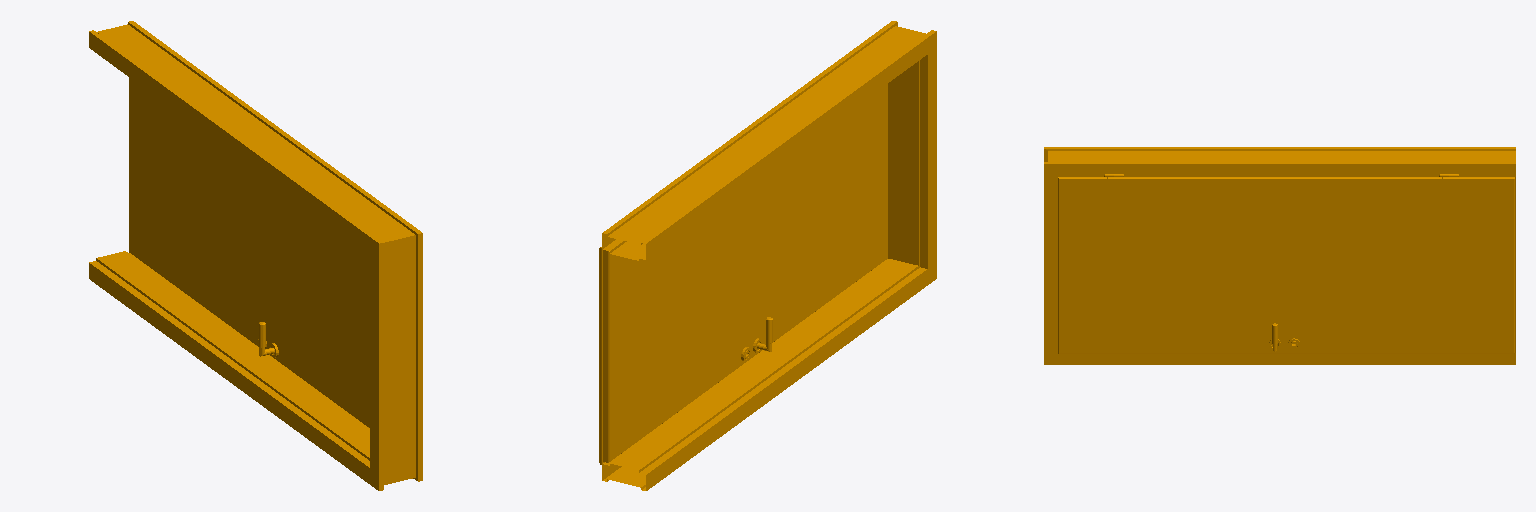
URDF robot description (door):
<?xml version="1.0"?>
<robot name="door">
 
    <link name="base_link">
        <visual>
            <origin rpy="0 0 0" xyz="0 0 0"/>
            <geometry>
                <mesh filename="urdf/door/door_mirror2.dae" scale="0.01 0.01 0.01"/>
            </geometry>
 
        </visual>

 </link>
 
</robot>

--- Render facts (derived) ---
The picture shows the robot from 3 angles, left to right: view 1: azimuth 30°, elevation 25°; view 2: azimuth 150°, elevation 25°; view 3: azimuth 270°, elevation 25°; orthographic projection.
Robot: door — 1 links, 0 joints (none); root link base_link; default pose: every joint at zero.
Visible links, largest first — view 1: base_link; view 2: base_link; view 3: base_link.
Link boxes in pixels (<box>): base_link: <box>89,21,422,490</box>; base_link: <box>599,21,936,490</box>; base_link: <box>1044,147,1515,364</box>.
Bounding box of the posed robot: 0.2606 × 2.06 × 0.97 m (x, y, z).
1 mesh visuals loaded from 1 distinct referenced files (1 Collada DAE).
